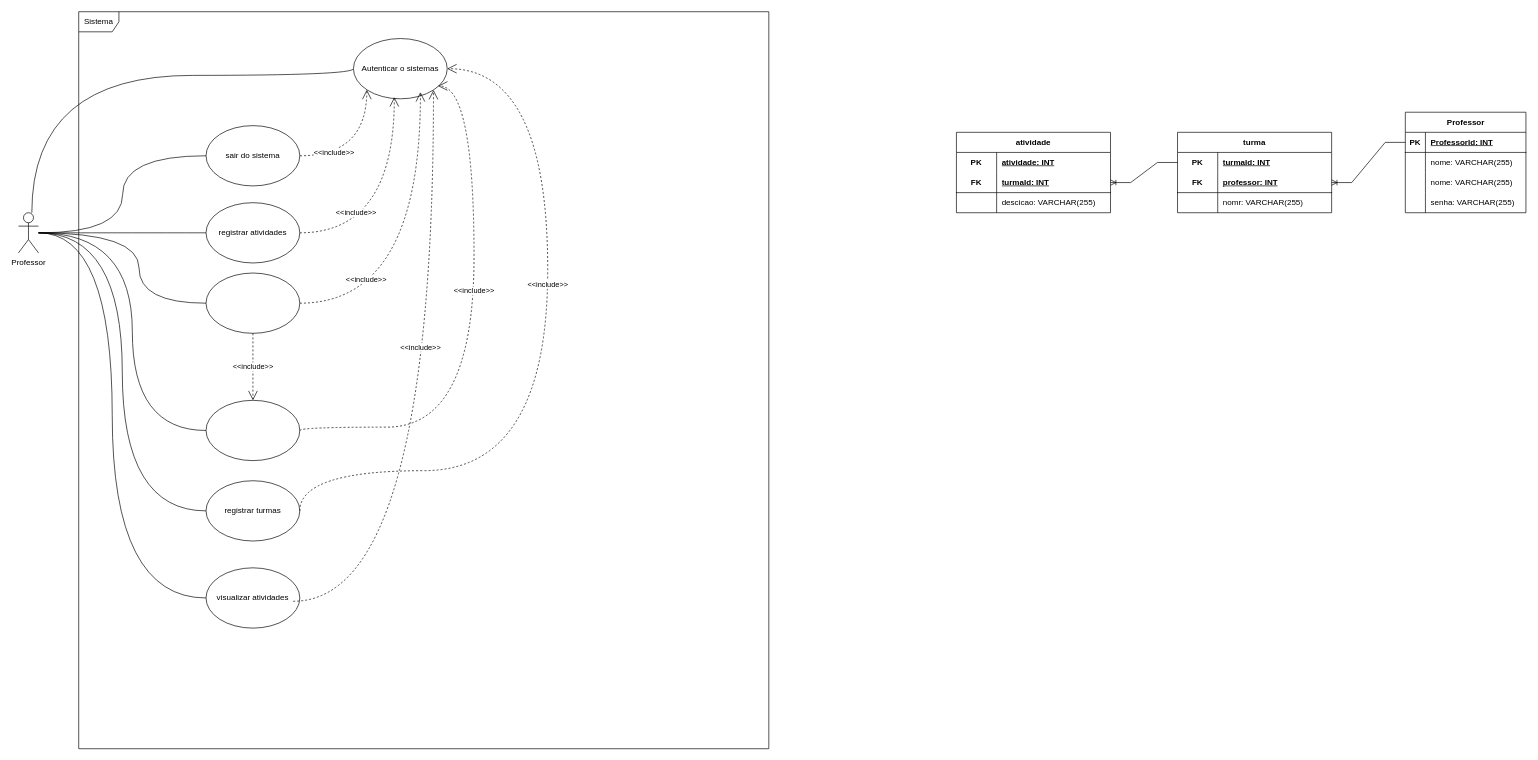
This 1538x760 diagram has some shape labels left out. Each missing label, with the box of its shape:
excluir turmas: (205, 272, 300, 333)
visualizar turmas: (205, 400, 300, 461)
